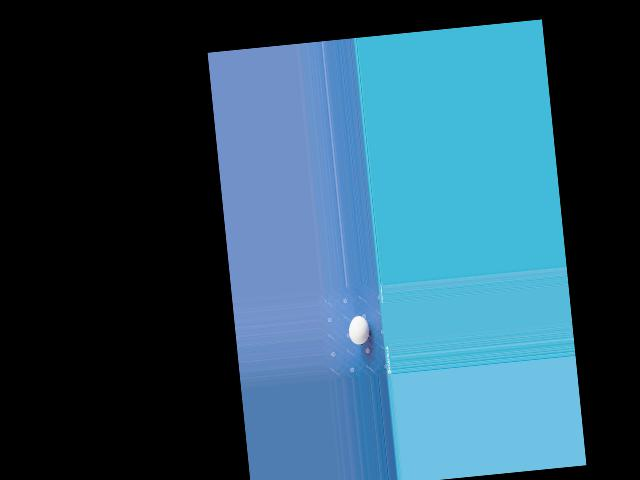egg: (348, 314, 371, 345)
